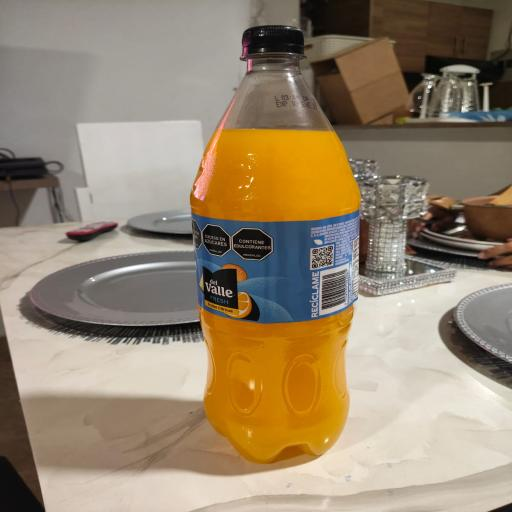Jugo del valle: (154, 16, 388, 485)
